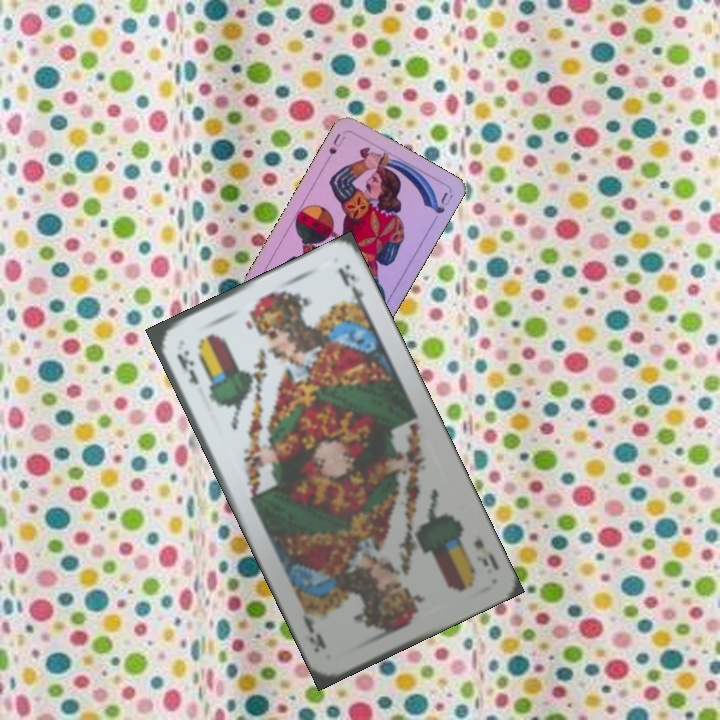EK: (469, 531, 502, 573), (173, 346, 202, 387)
SU: (321, 129, 348, 165)
